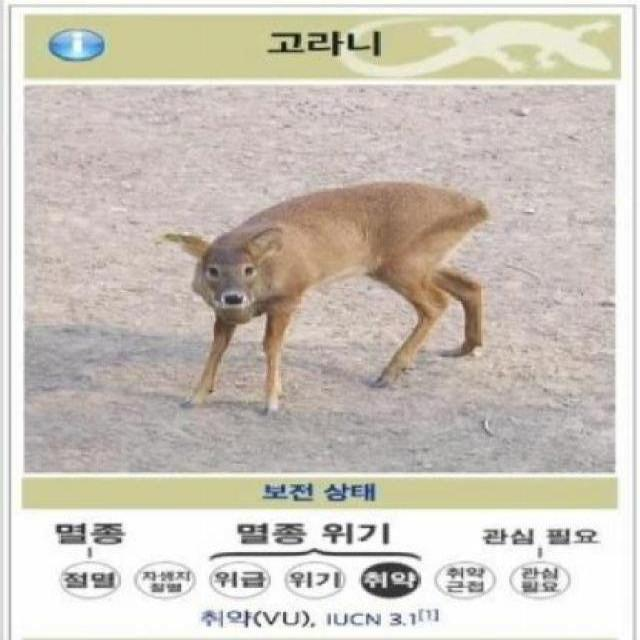deer: (162, 183, 491, 420)
